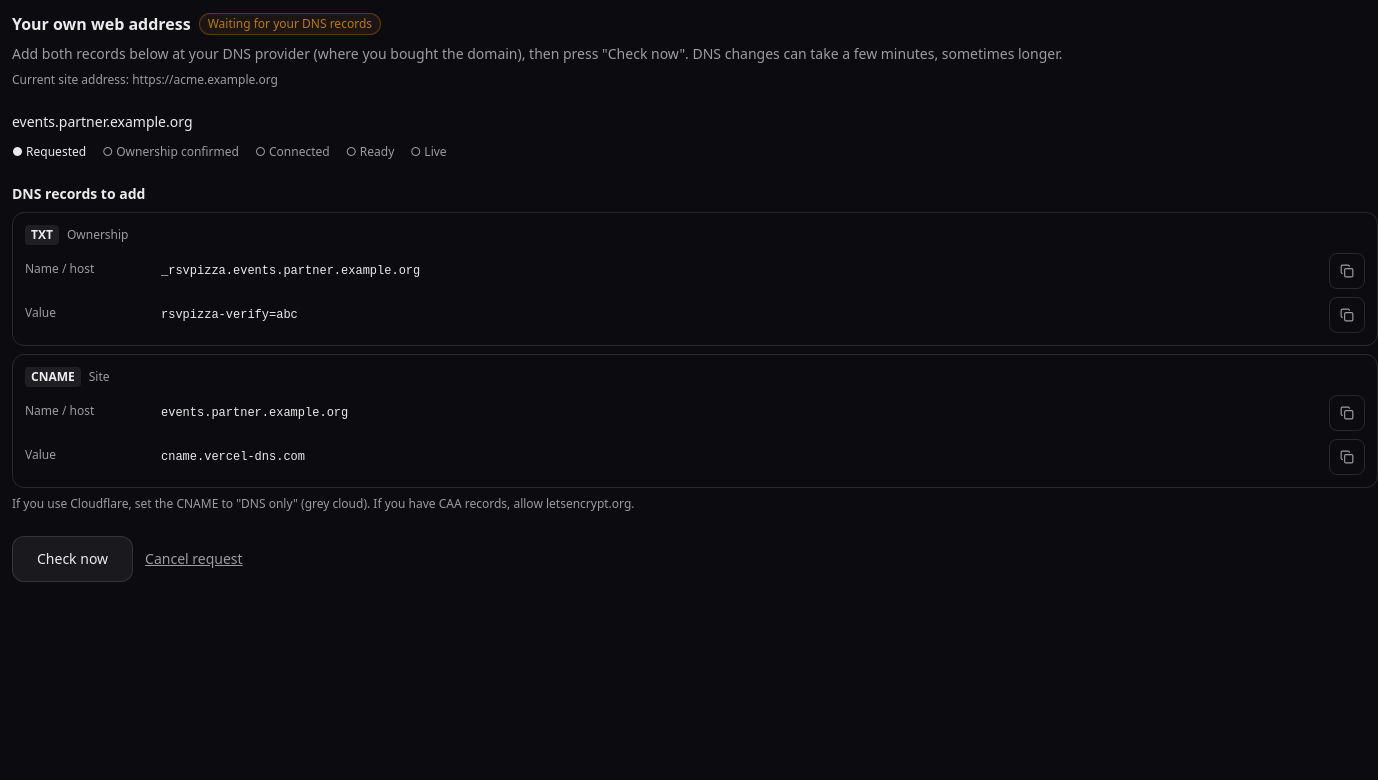
Scenario: DomainPanel › check now shows the live results and a clear error on a failure
The image size is (1378, 780).
Click the button "Check now" at point(73, 559), box x1=12 y1=536 x2=133 y2=582
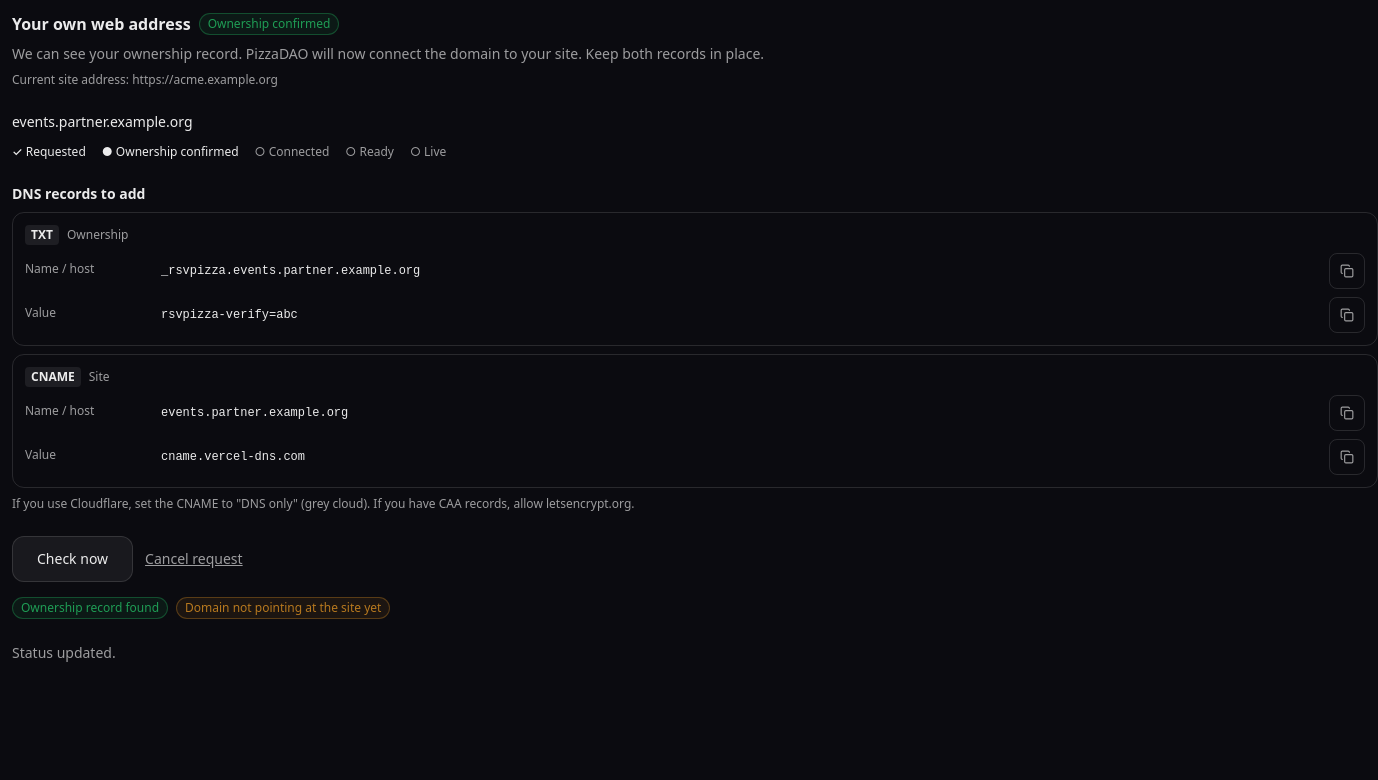
Expected: the text "Ownership record found" is shown, x1=12 y1=597 x2=168 y2=619
Expected: the text "Domain not pointing at the site yet" is shown, x1=176 y1=597 x2=390 y2=619
Click the button "Check now" at point(73, 559), box x1=12 y1=536 x2=133 y2=582
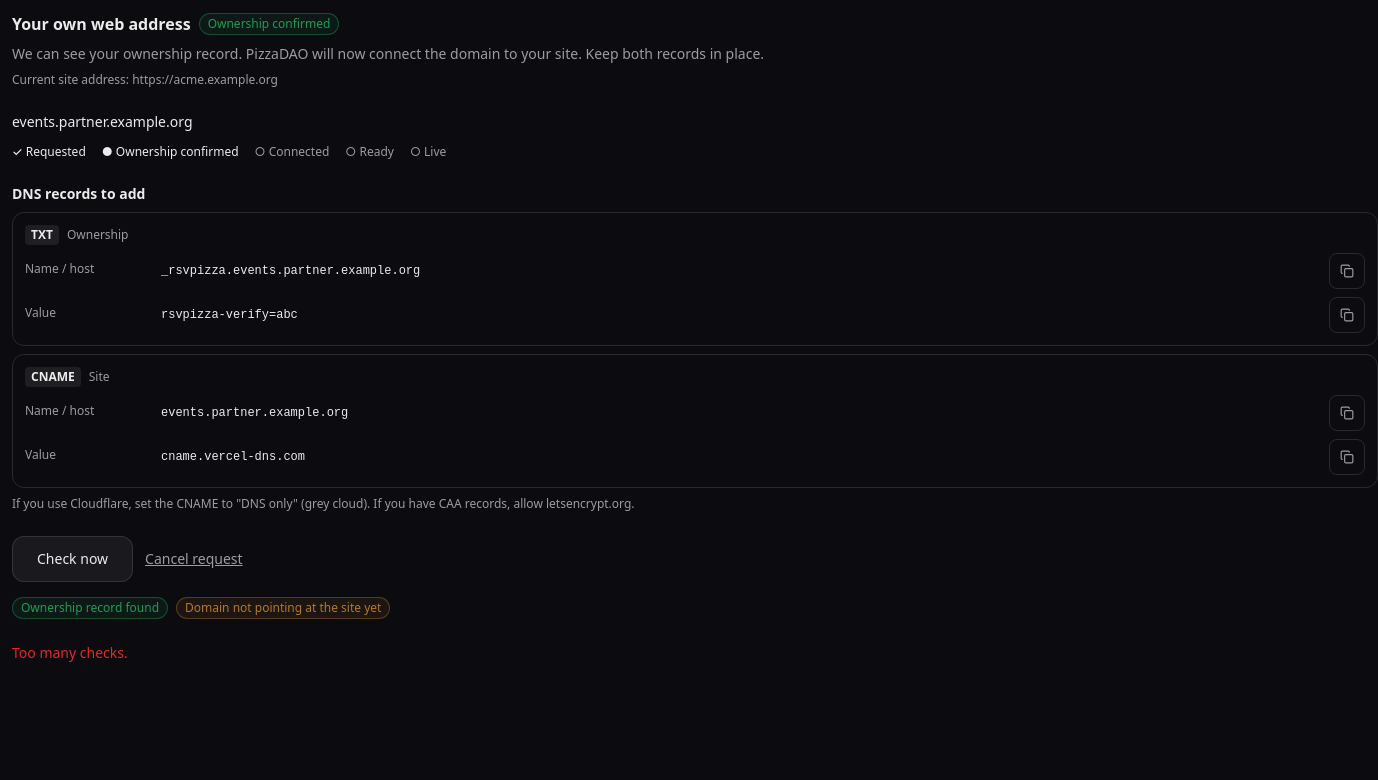
Expected: the message reads "Too many checks.", x1=12 y1=643 x2=128 y2=662
